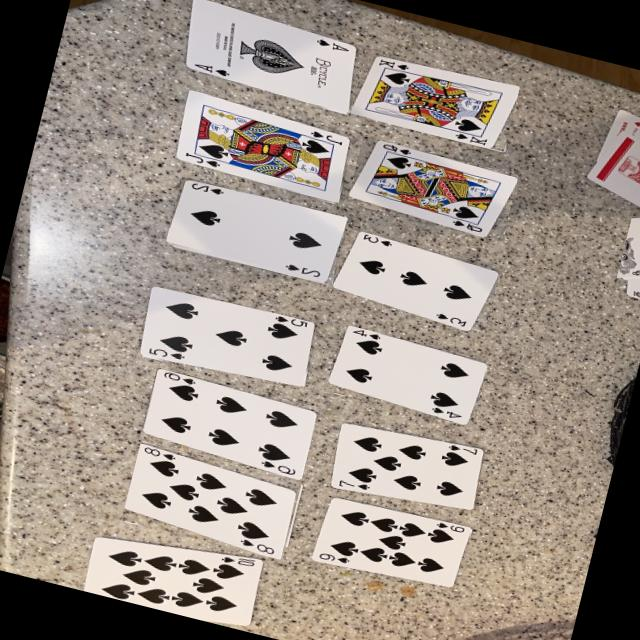10 of spades: (84, 537, 262, 626)
2 of spades: (165, 182, 347, 282)
3 of spades: (332, 233, 498, 332)
4 of spades: (327, 326, 487, 425)
5 of spades: (140, 288, 316, 387)
6 of spades: (143, 369, 317, 479)
7 of spades: (331, 423, 484, 510)
8 of spades: (124, 444, 297, 560)
9 of spades: (311, 498, 471, 587)
Ace of spades: (186, 0, 357, 114)
Jack of spades: (177, 91, 350, 202)
Joker: (617, 219, 640, 280), (626, 275, 640, 299)
King of spades: (351, 57, 519, 148)
Queen of spades: (349, 141, 517, 237)
